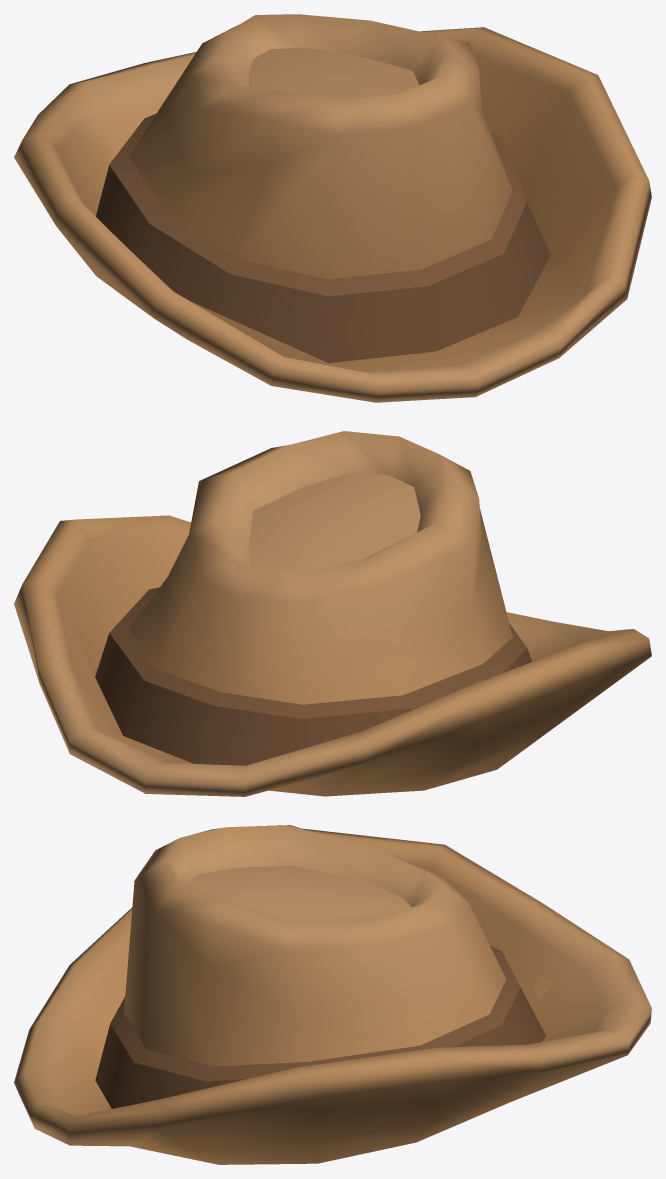
Rendered from Headgear_8.fbx.
The picture shows the model from 3 angles, top to bottom: view 1: azimuth 30°, elevation 25°; view 2: azimuth 150°, elevation 25°; view 3: azimuth 270°, elevation 25°; orthographic projection. The views are drawn at different scales.
Visible parts, largest first — view 1: Headgear_8; view 2: Headgear_8; view 3: Headgear_8.
Part boxes in pixels (x1,y1,x2,y2): Headgear_8: [14, 14, 651, 402]; Headgear_8: [14, 431, 651, 796]; Headgear_8: [14, 825, 651, 1164].
Size of the model in its own units: 122 by 54.61 by 130.
